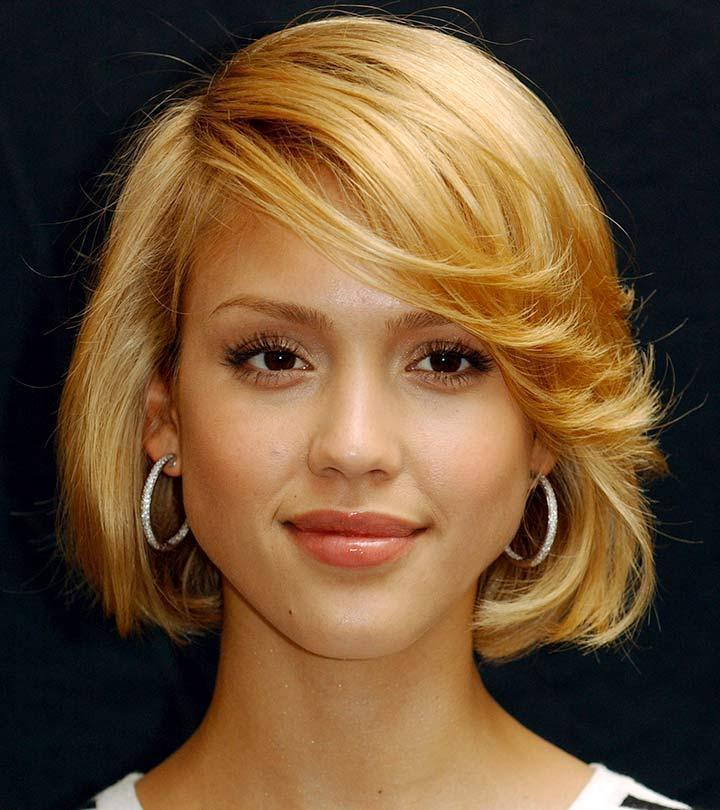Sober: (184, 199, 518, 616)
